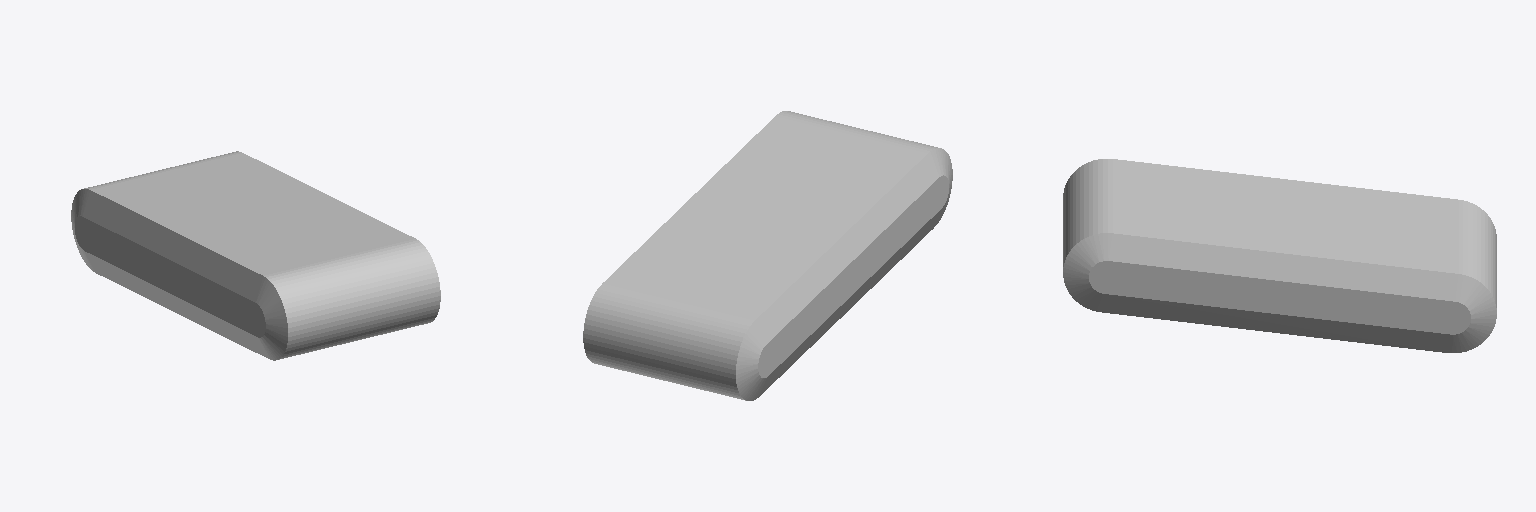
File: robotiq_arg2f_85_outer_finger.obj
3 renders of one model, left to right at view 1: azimuth 30°, elevation 25°; view 2: azimuth 150°, elevation 25°; view 3: azimuth 270°, elevation 25°, orthographic.
Visible parts, largest first — view 1: Robotiq_Arg2F_85_Outer_Finger; view 2: Robotiq_Arg2F_85_Outer_Finger; view 3: Robotiq_Arg2F_85_Outer_Finger.
Part boxes in pixels (left/top/right/bottom): Robotiq_Arg2F_85_Outer_Finger: left=71, top=151, right=440, bottom=360; Robotiq_Arg2F_85_Outer_Finger: left=583, top=111, right=952, bottom=400; Robotiq_Arg2F_85_Outer_Finger: left=1063, top=159, right=1496, bottom=352.
Bounding box in the file's own units: 27 × 18.11 × 59.12.